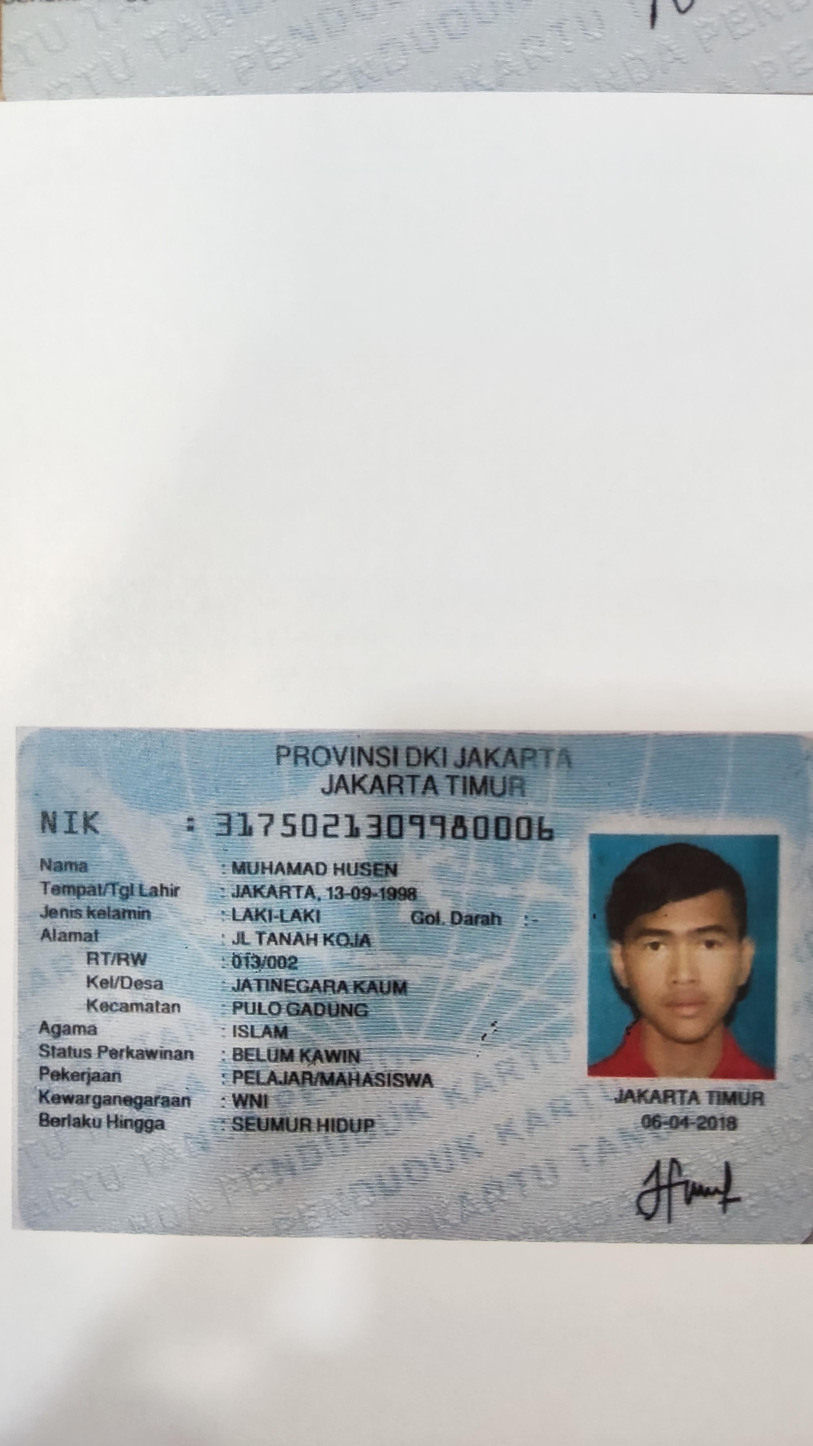ID-card: (16, 729, 808, 1232)
